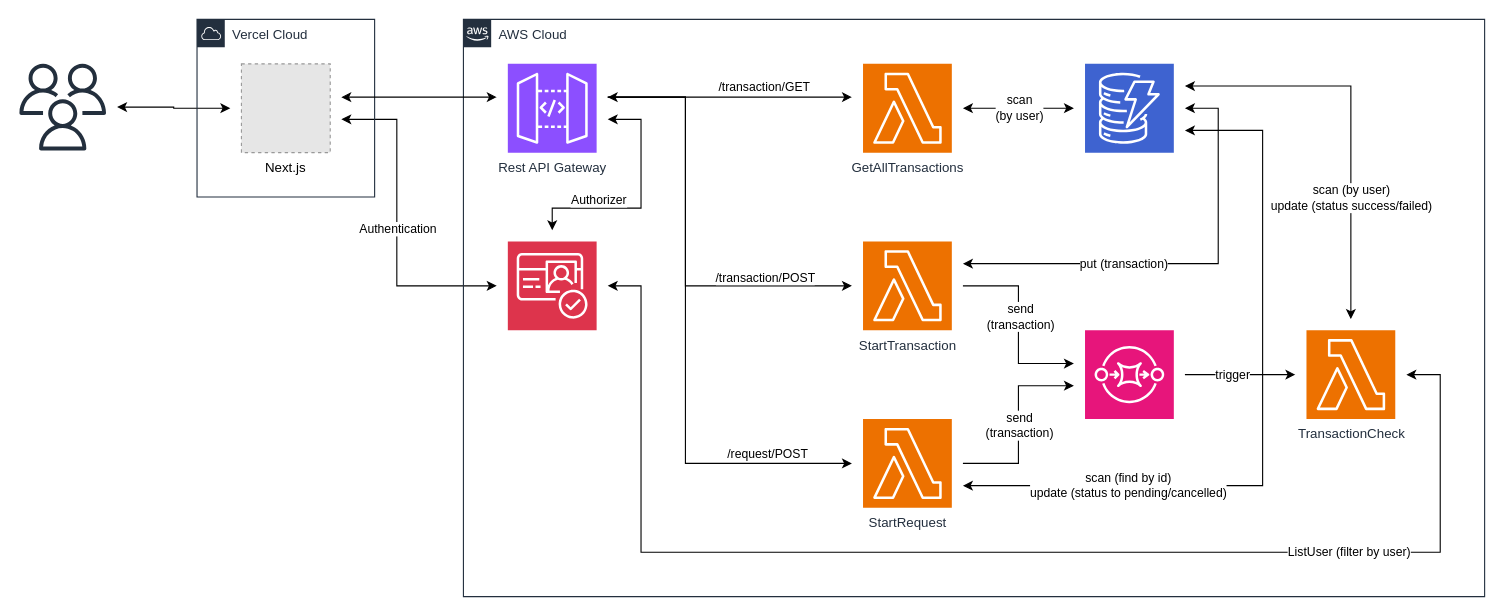
The diagram is 1504 pixels wide and 616 high, and some of its shapes have lost their labels. Grey dashed boxes stand in for pictures. The centre of each missing label's shape, as x and y in pixels:
"Cognito" belongs at point 552,285.
"DynamoDB (transactions)" belongs at point 1129,108.
"SQS (FIFO)" belongs at point 1129,374.
"Users" belongs at point 62,106.
